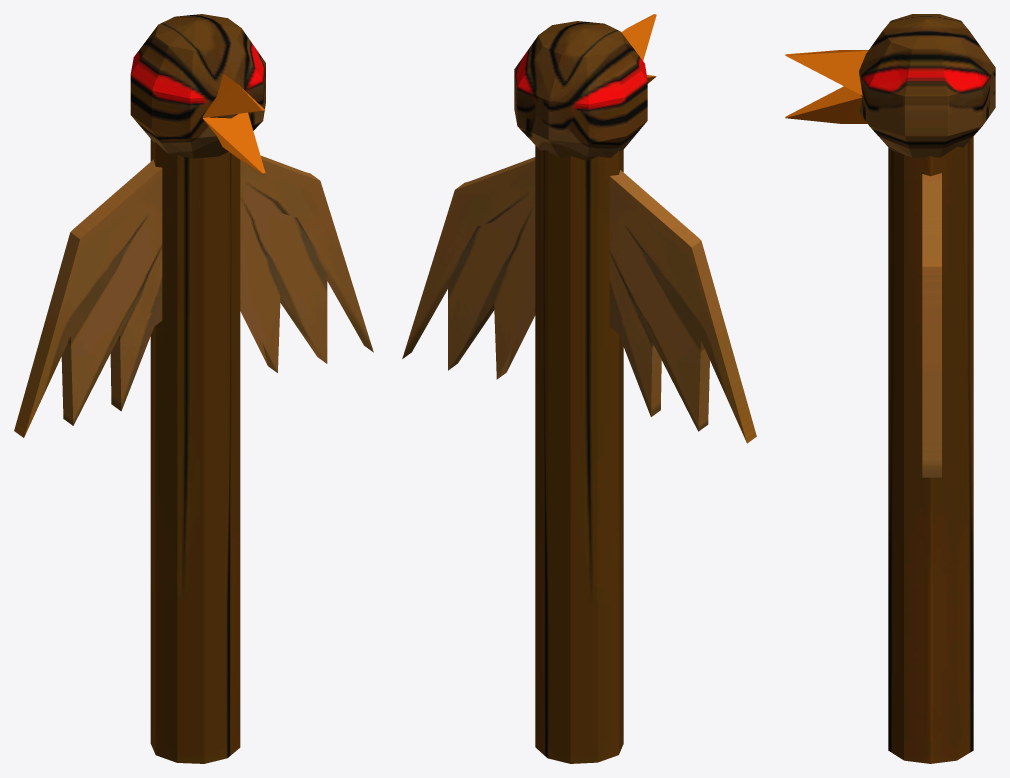
File: Totem2.glb
3 renders of one model, left to right at view 1: azimuth 30°, elevation 25°; view 2: azimuth 150°, elevation 25°; view 3: azimuth 270°, elevation 25°, orthographic.
Parts seen in each view (by area): view 1: Totem2; view 2: Totem2; view 3: Totem2.
Part boxes in pixels (<box>): Totem2: <box>14,14,373,763</box>; Totem2: <box>402,14,756,763</box>; Totem2: <box>785,14,995,763</box>.
Bounding box in the file's own units: 181 × 359 × 94.61.
Materials: 1 (1 with a texture image).
